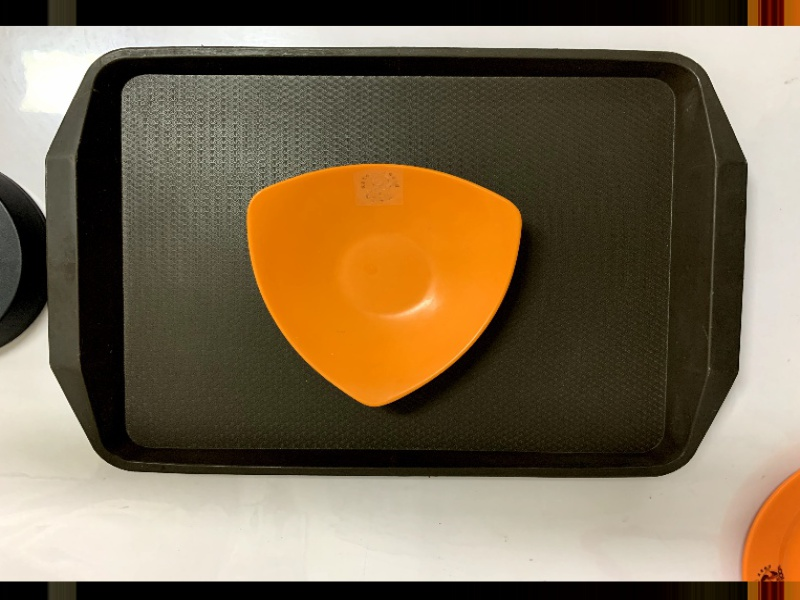dish11: (239, 157, 528, 413)
